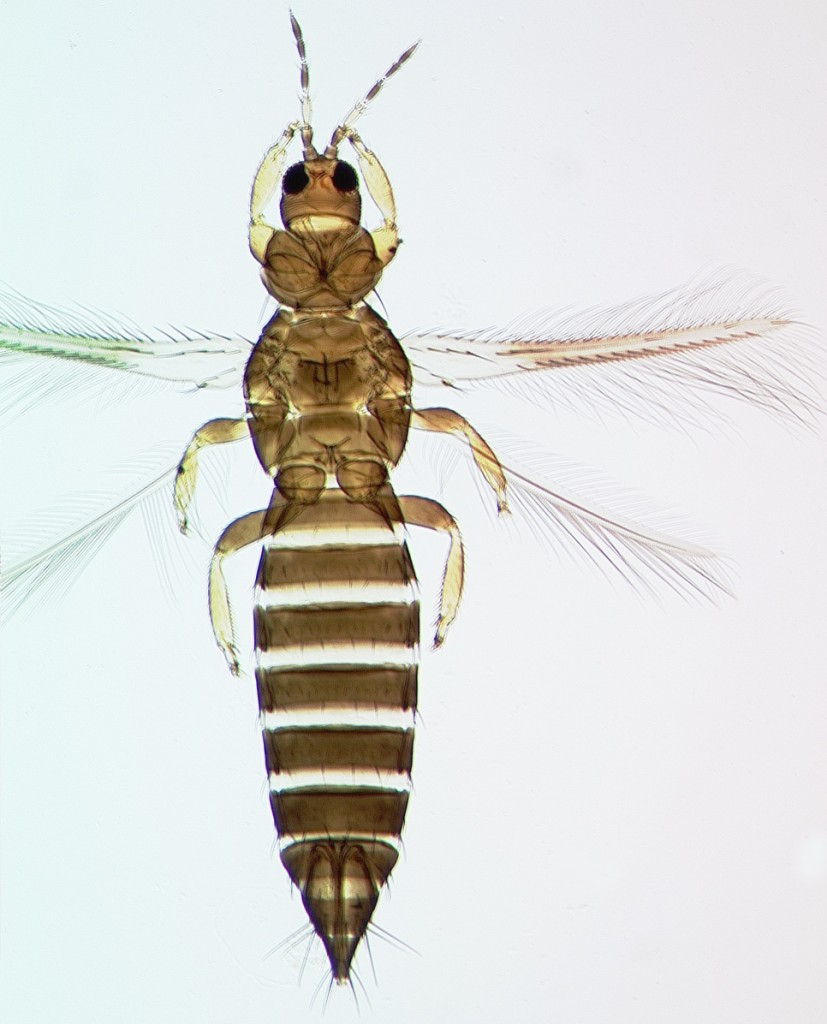Thripidae: (1, 7, 817, 1018)
